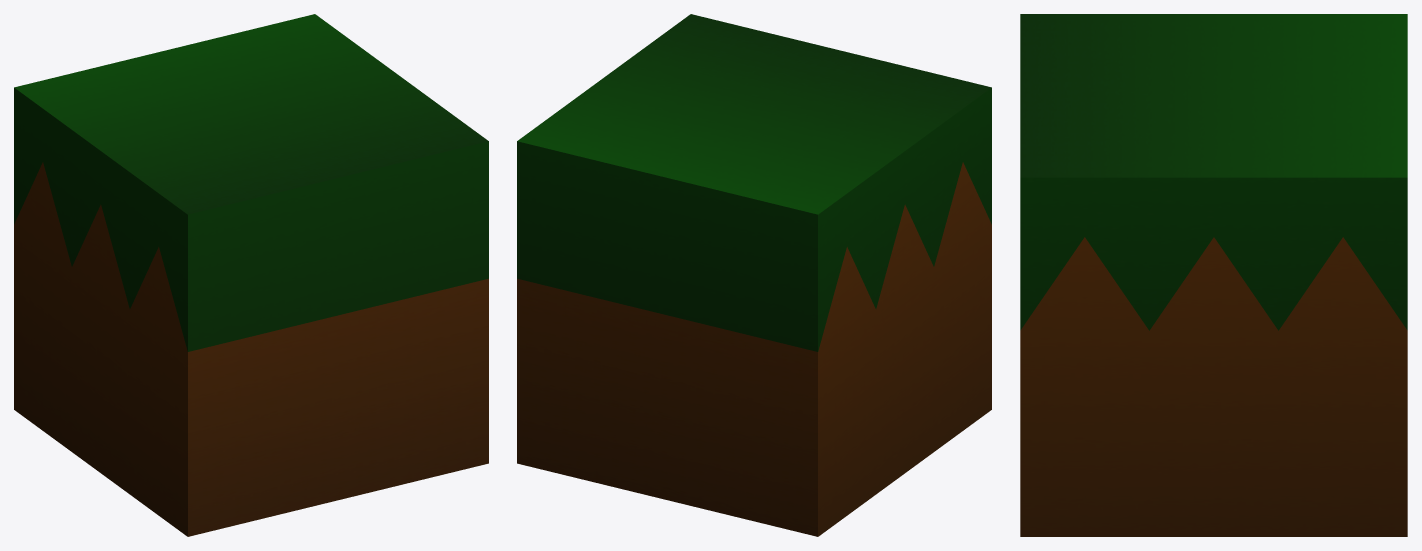
The model's file is Ground.fbx.
3 renders of one model, left to right at view 1: azimuth 30°, elevation 25°; view 2: azimuth 150°, elevation 25°; view 3: azimuth 270°, elevation 25°, orthographic. The views are drawn at different scales.
Visible parts, largest first — view 1: Cube.087; view 2: Cube.087; view 3: Cube.087.
Part boxes in pixels (box(x1,y1,x2,y2)): Cube.087: box(14, 14, 488, 536); Cube.087: box(517, 14, 991, 536); Cube.087: box(1020, 14, 1407, 536).
Bounding box in the file's own units: 200 × 205 × 200.
Materials: 1 (1 with a texture image).
